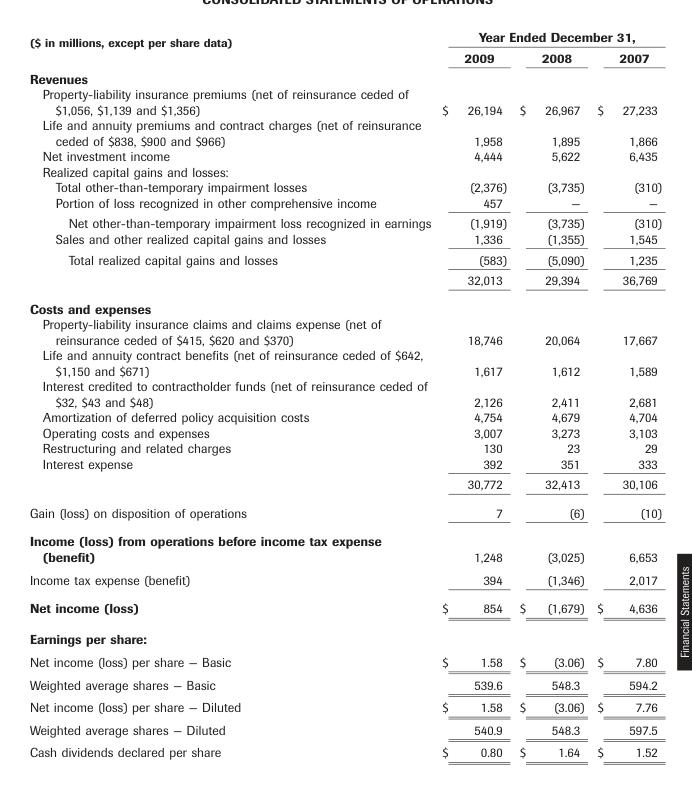table: (28, 28, 661, 759)
table column: (28, 28, 436, 759), (512, 28, 590, 759), (436, 28, 512, 759), (590, 28, 661, 759)
table column header: (28, 28, 661, 67)
table projected row header: (28, 622, 661, 649), (28, 293, 661, 315), (28, 67, 661, 85), (28, 163, 661, 179)
table row: (28, 526, 661, 567), (28, 85, 661, 116), (28, 116, 661, 147), (28, 315, 661, 346), (28, 346, 661, 377), (28, 377, 661, 408), (28, 593, 661, 622), (28, 498, 661, 526), (28, 622, 661, 649), (28, 567, 661, 593), (28, 473, 661, 498), (28, 269, 661, 293), (28, 649, 661, 672), (28, 672, 661, 695), (28, 695, 661, 718), (28, 293, 661, 315), (28, 718, 661, 740), (28, 248, 661, 269), (28, 47, 661, 67), (28, 28, 661, 47), (28, 740, 661, 759), (28, 67, 661, 85), (28, 194, 661, 212), (28, 212, 661, 230), (28, 230, 661, 248), (28, 455, 661, 473), (28, 147, 661, 163), (28, 163, 661, 179), (28, 408, 661, 424), (28, 439, 661, 455), (28, 179, 661, 194), (28, 424, 661, 439)
table spanning cell: (28, 28, 436, 67), (436, 28, 661, 47)
